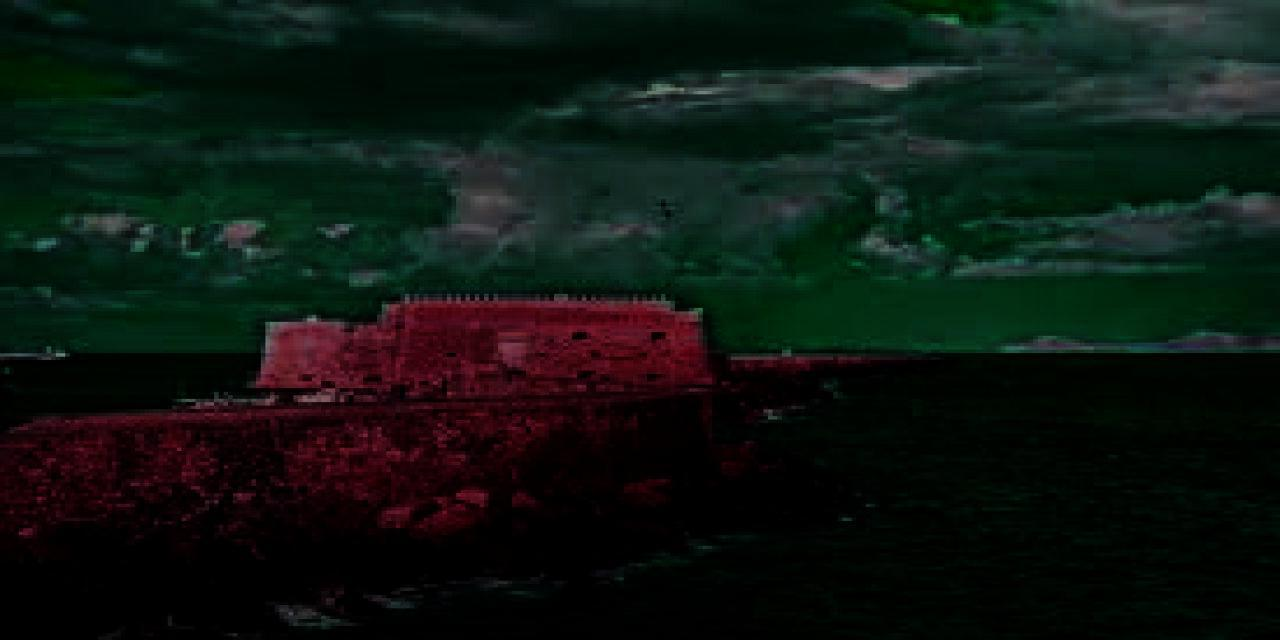Kules: (249, 294, 718, 401)
